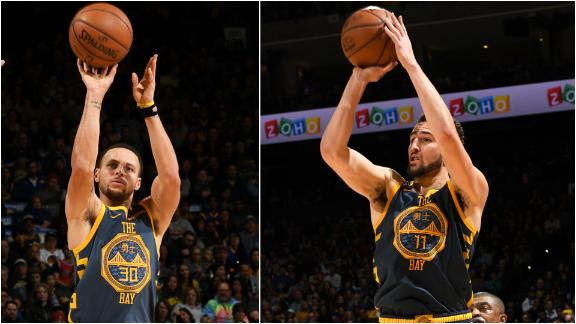Basketball: (65, 2, 136, 69), (340, 6, 398, 72)
